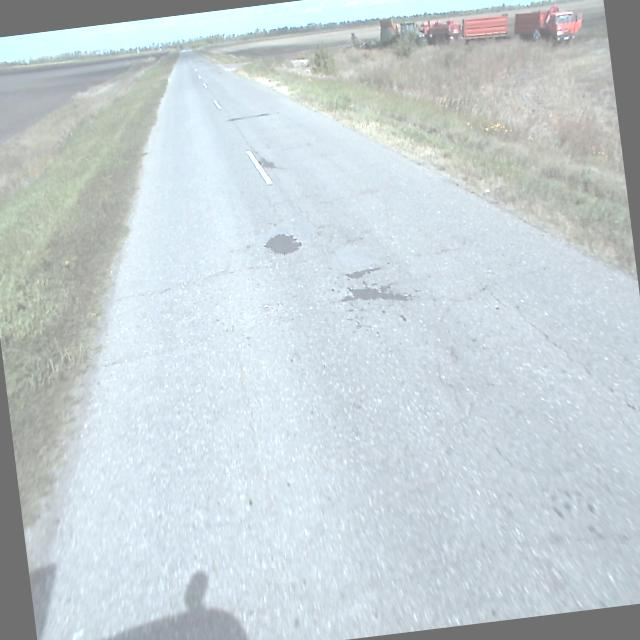road: (33, 49, 640, 640)
